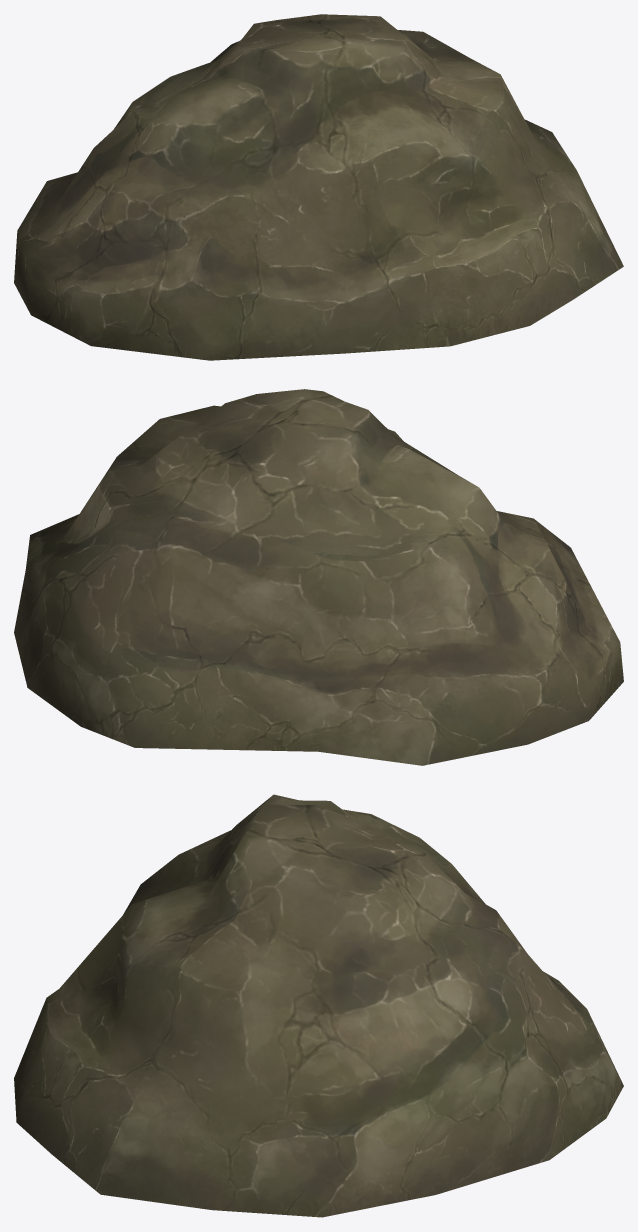
Rendered from rock1.fbx.
3 renders of one model, top to bottom at view 1: azimuth 30°, elevation 25°; view 2: azimuth 150°, elevation 25°; view 3: azimuth 270°, elevation 25°, orthographic. The views are drawn at different scales.
Parts seen in each view (by area): view 1: rock1; view 2: rock1; view 3: rock1.
Boxes of the visible parts, x1,y1,x2,y2 form: rock1: (14, 14, 623, 360); rock1: (14, 389, 623, 765); rock1: (14, 794, 623, 1217).
Bounding box in the file's own units: 3.35 × 1.31 × 2.93.
